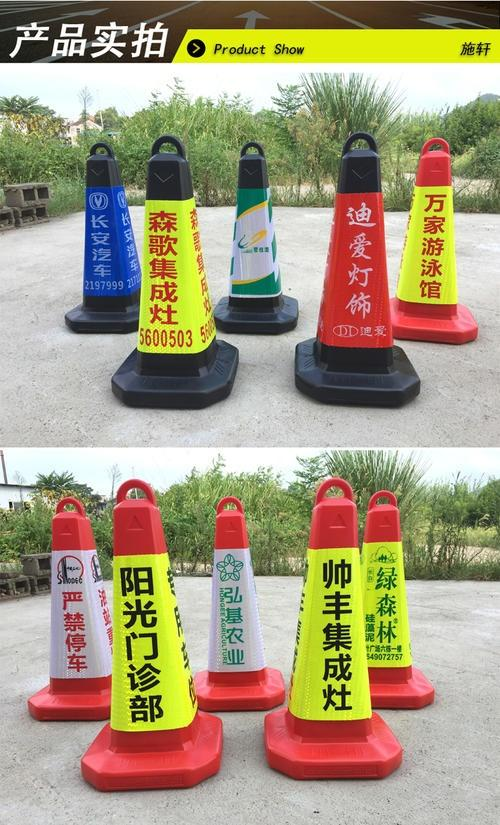cone_barrel: (91, 481, 220, 780), (272, 480, 395, 775), (117, 139, 233, 401), (301, 135, 414, 401), (29, 503, 122, 722), (390, 140, 477, 343), (197, 500, 281, 710), (355, 493, 433, 703), (65, 142, 147, 330), (215, 142, 296, 332)
